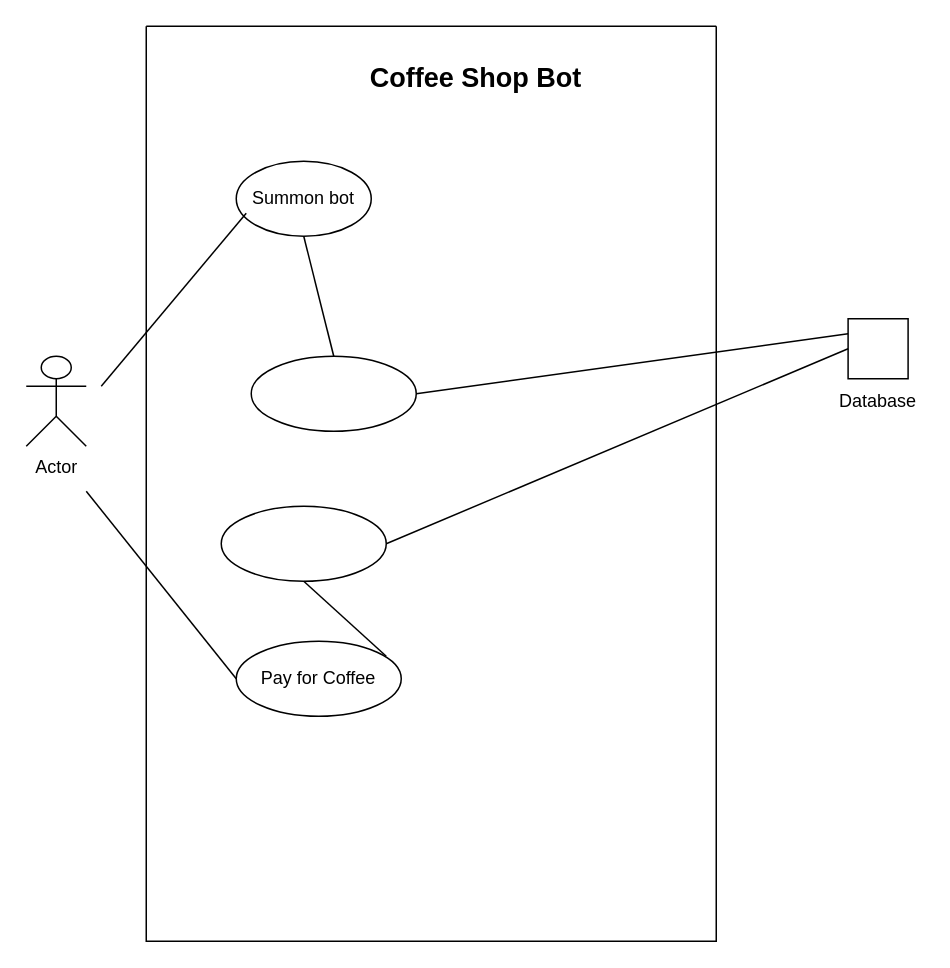
The diagram is 950 pixels wide and 968 high, and some of its shapes have lost their labels. The centre of each missing label's shape, as x and y in pixels:
"Order Coffee" belongs at point (333, 393).
"Sell Coffee" belongs at point (303, 543).
